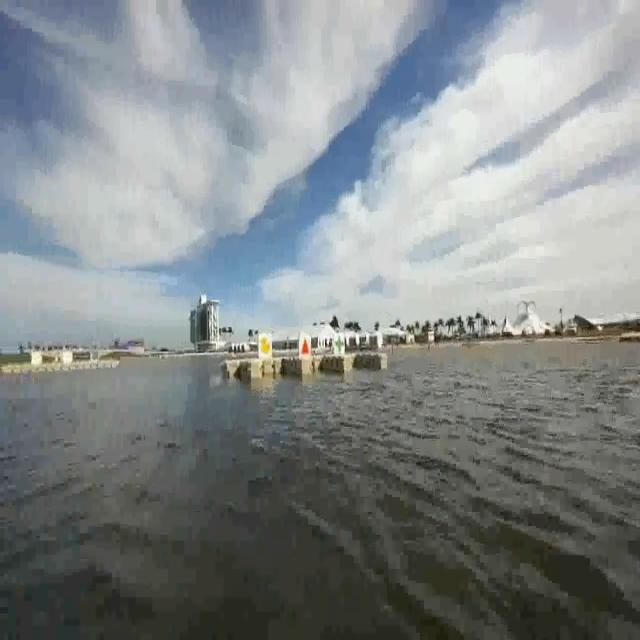blue-cross: (334, 330, 346, 354)
red-dot: (299, 329, 312, 359)
yellow-duck: (259, 332, 271, 359)
